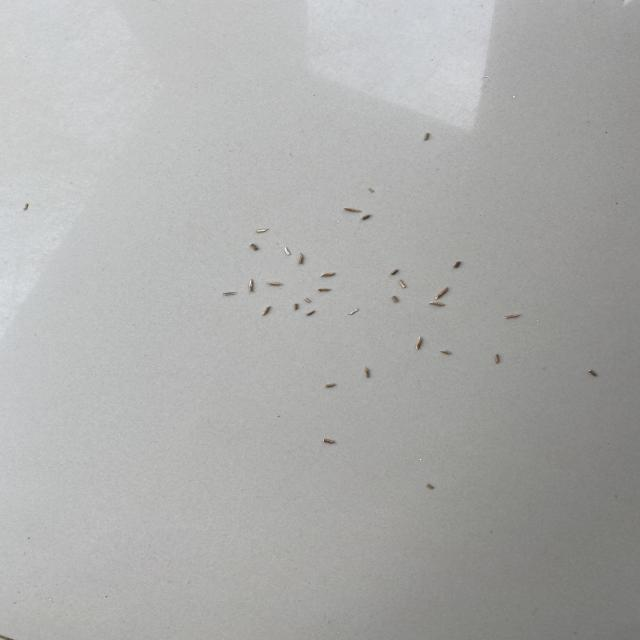Wereng: (258, 302, 286, 324), (435, 338, 456, 364), (429, 282, 459, 299), (487, 344, 507, 369), (581, 360, 603, 382), (408, 333, 431, 354), (381, 290, 407, 308), (319, 375, 346, 392), (318, 429, 340, 448), (356, 362, 376, 382), (348, 301, 368, 320), (420, 301, 463, 309), (270, 278, 288, 297), (337, 206, 367, 217), (419, 478, 440, 493), (310, 285, 341, 295), (222, 286, 239, 302), (314, 271, 341, 281), (295, 249, 307, 271), (251, 223, 271, 236), (392, 279, 412, 292), (505, 313, 527, 324), (280, 242, 294, 259), (300, 293, 314, 310), (421, 127, 434, 145), (19, 199, 34, 214), (364, 183, 380, 197), (247, 276, 257, 298), (448, 258, 466, 270), (248, 240, 262, 254), (307, 304, 319, 320), (388, 267, 404, 278), (363, 213, 375, 226), (288, 301, 305, 310)
